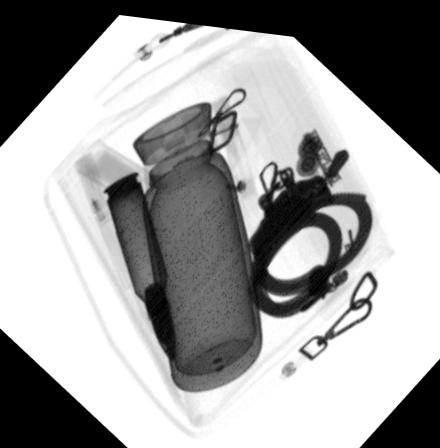Bullet: (94, 165, 176, 357)
HandCuffs: (243, 146, 370, 313)
